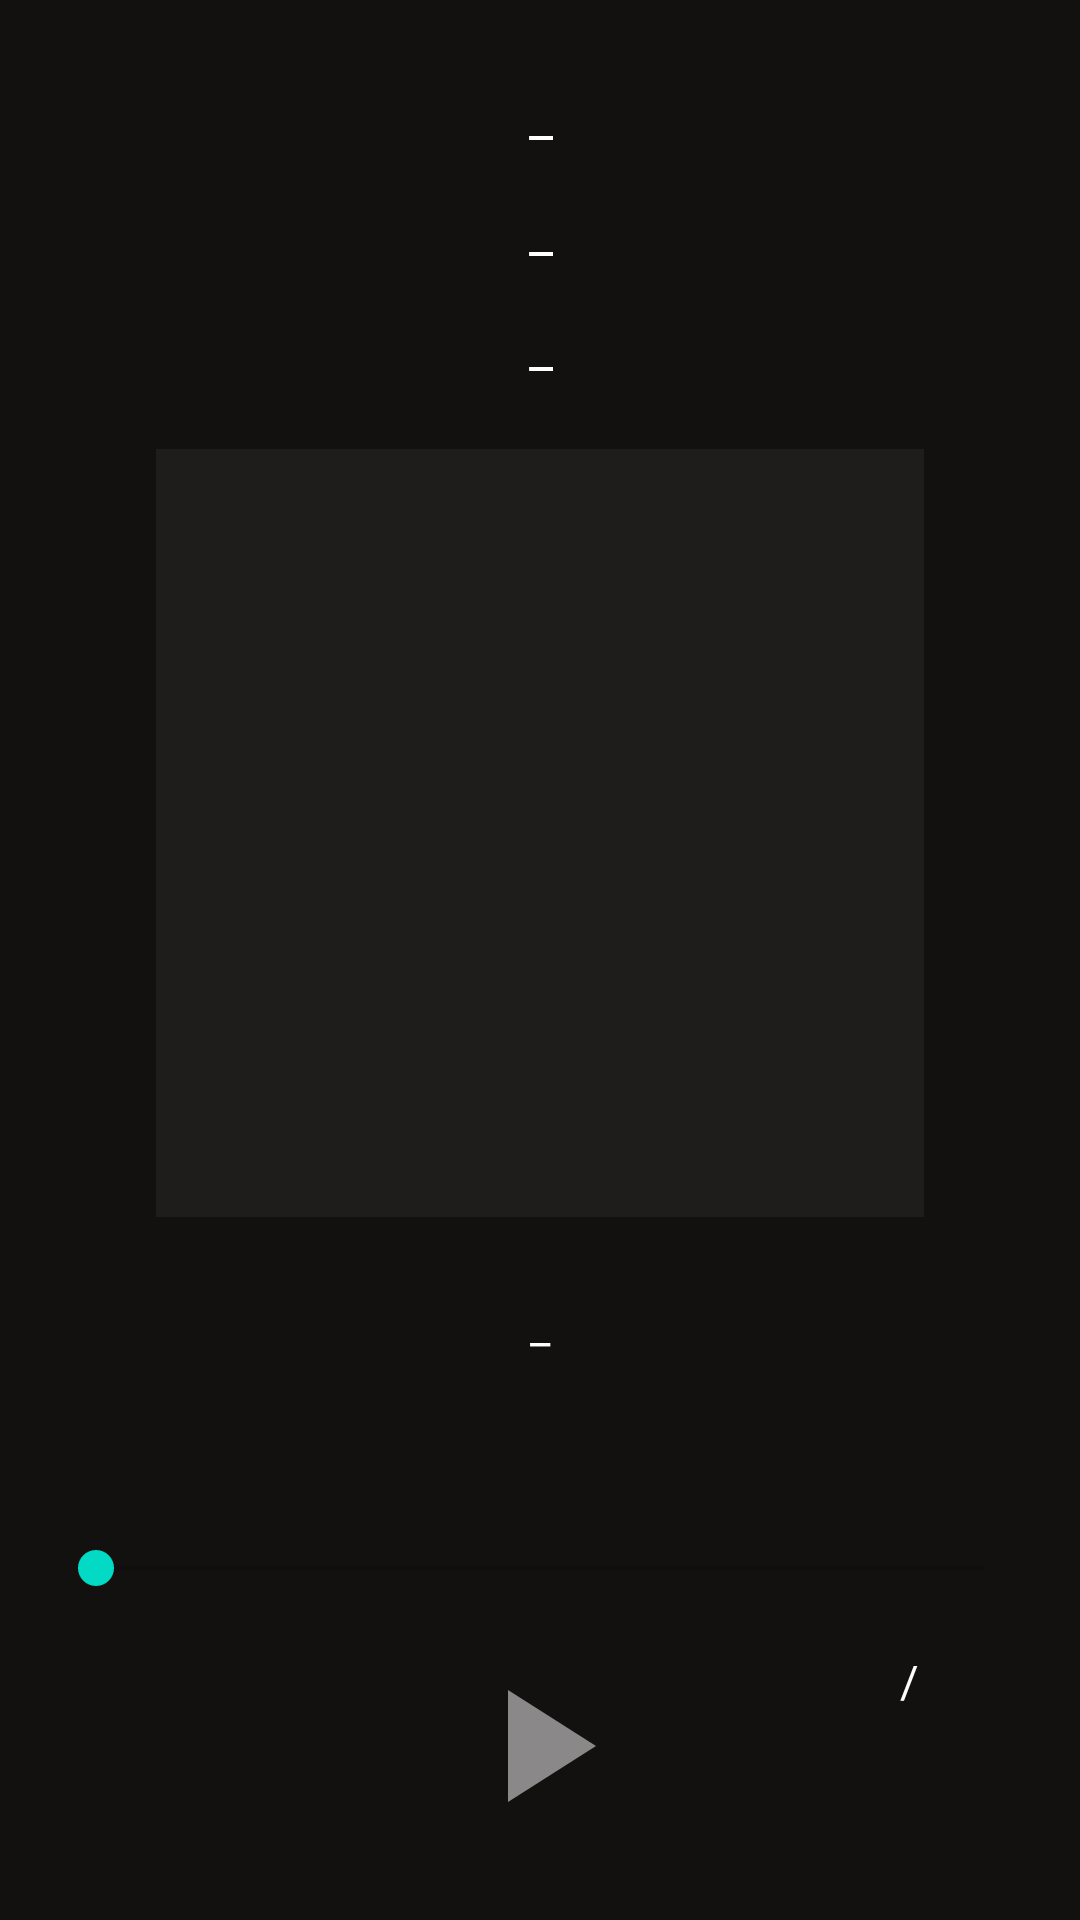

Icon bounding boxes for this 1080*1920 phone screenshot, format (x1, y1, x2, y2):
play arrow: (508, 1690, 596, 1802)
